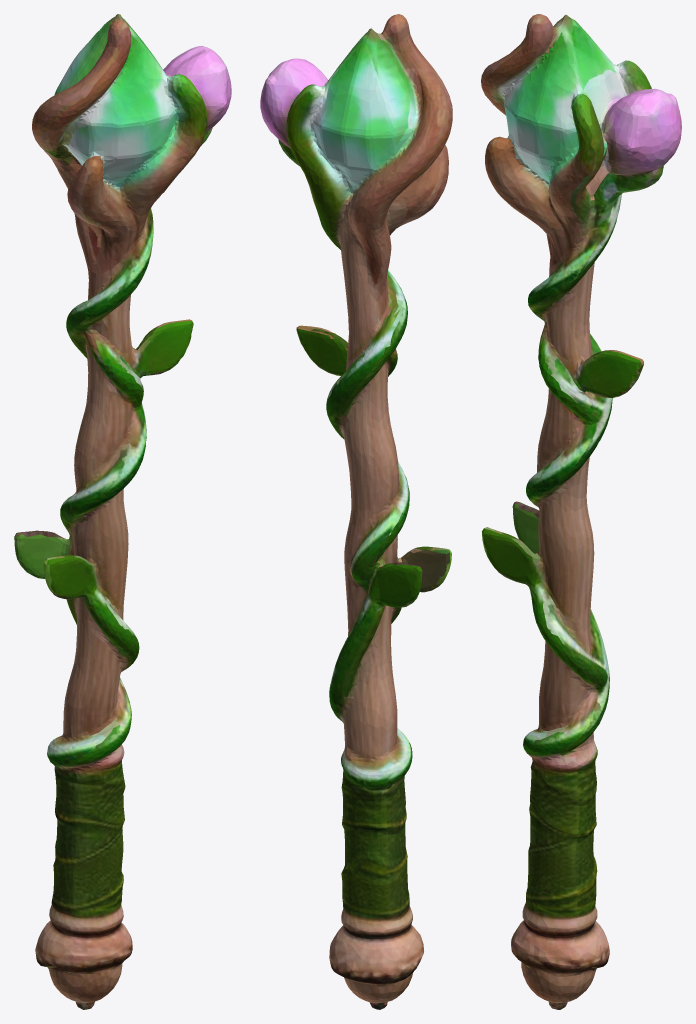
Rendered from wand_forest.glb.
3 renders of one model, left to right at view 1: azimuth 30°, elevation 25°; view 2: azimuth 150°, elevation 25°; view 3: azimuth 330°, elevation 25°, orthographic. The views are drawn at different scales.
Parts seen in each view (by area): view 1: tmpjtot6ubb.ply; view 2: tmpjtot6ubb.ply; view 3: tmpjtot6ubb.ply.
Boxes of the visible parts, x1=… form: tmpjtot6ubb.ply: x1=14, y1=14, x2=231, y2=1009; tmpjtot6ubb.ply: x1=260, y1=14, x2=452, y2=1009; tmpjtot6ubb.ply: x1=481, y1=14, x2=681, y2=1009.
Bounding box in the file's own units: 0.1969 × 1 × 0.1281.
1 material, 1 textured.
